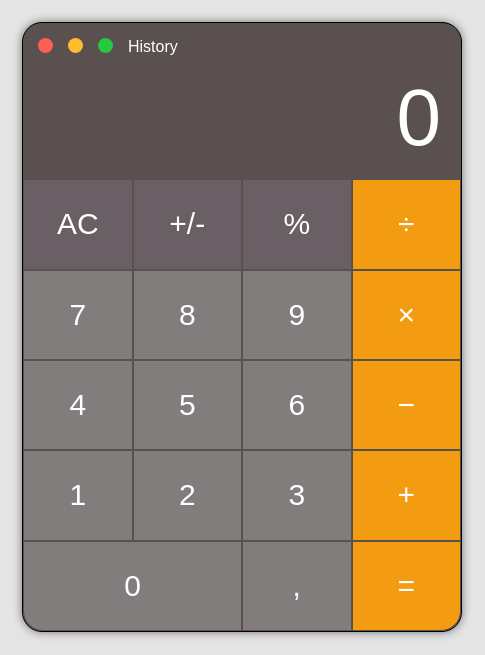
Calculator Component › should update input value when numbers are clicked
The width and height of the screenshot is (485, 655).
What coordinates should you click on to do the following:
click the button "7"
I would click on:
 (78, 315)
Its box is [23,270,132,360].
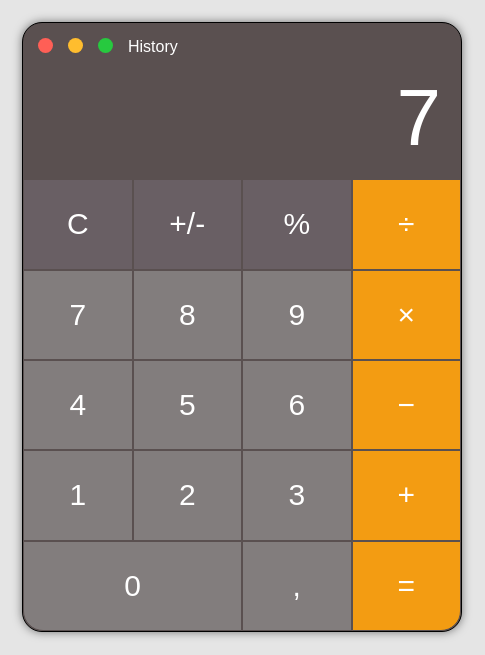
What coordinates should you click on to do the following:
click the button "5"
I would click on:
 (187, 405)
Its box is [132,360,242,450].
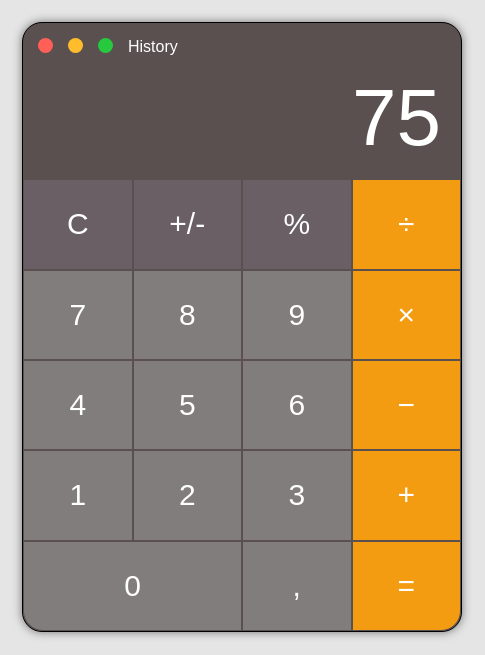
Expected: the field with placeholder "0" holds "75", [38,71,441,173]
